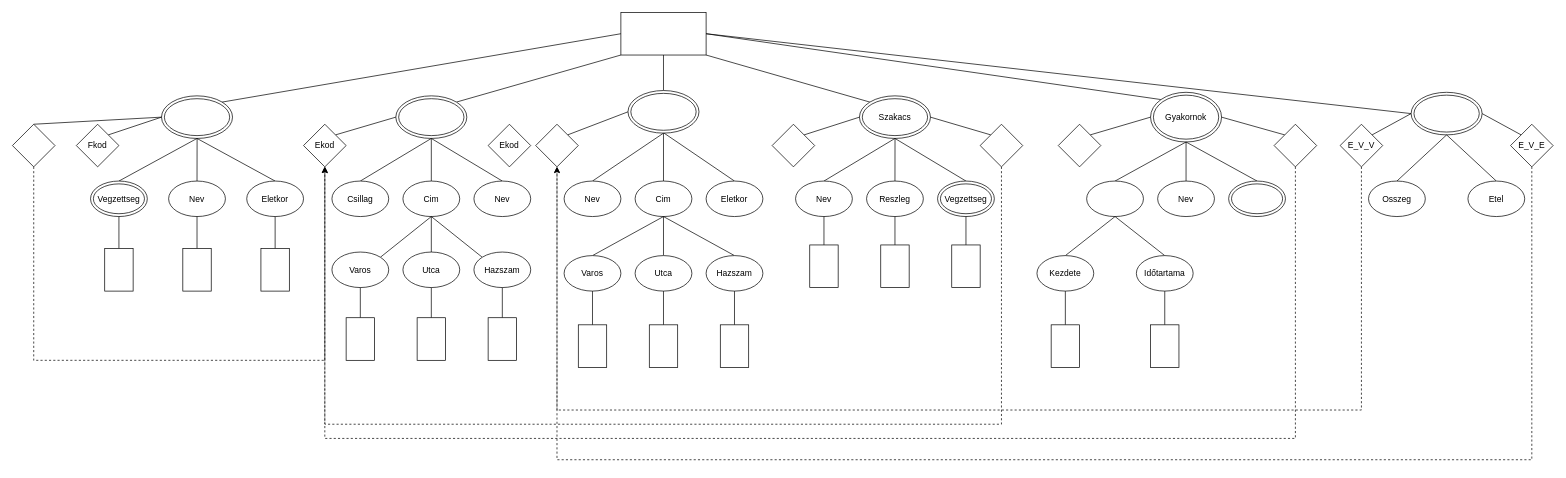
This 1566x478 diagram has some shape labels left out. The shapes that lost their labels are listed below. From the top down, each one's centre as x and y in pixels, then its label:
point (663, 33): Vendéglátás
point (197, 116): Foszakacs
point (431, 116): Étterem
point (663, 111): Vendeg
point (1446, 113): Rendeles
point (33, 145): E_F
point (556, 145): Vkod
point (793, 145): Szkod
point (1001, 145): E_SZ
point (1079, 145): Gykod
point (1295, 145): E_GY
point (1114, 198): Gyakorlat
point (1256, 198): Muszak
